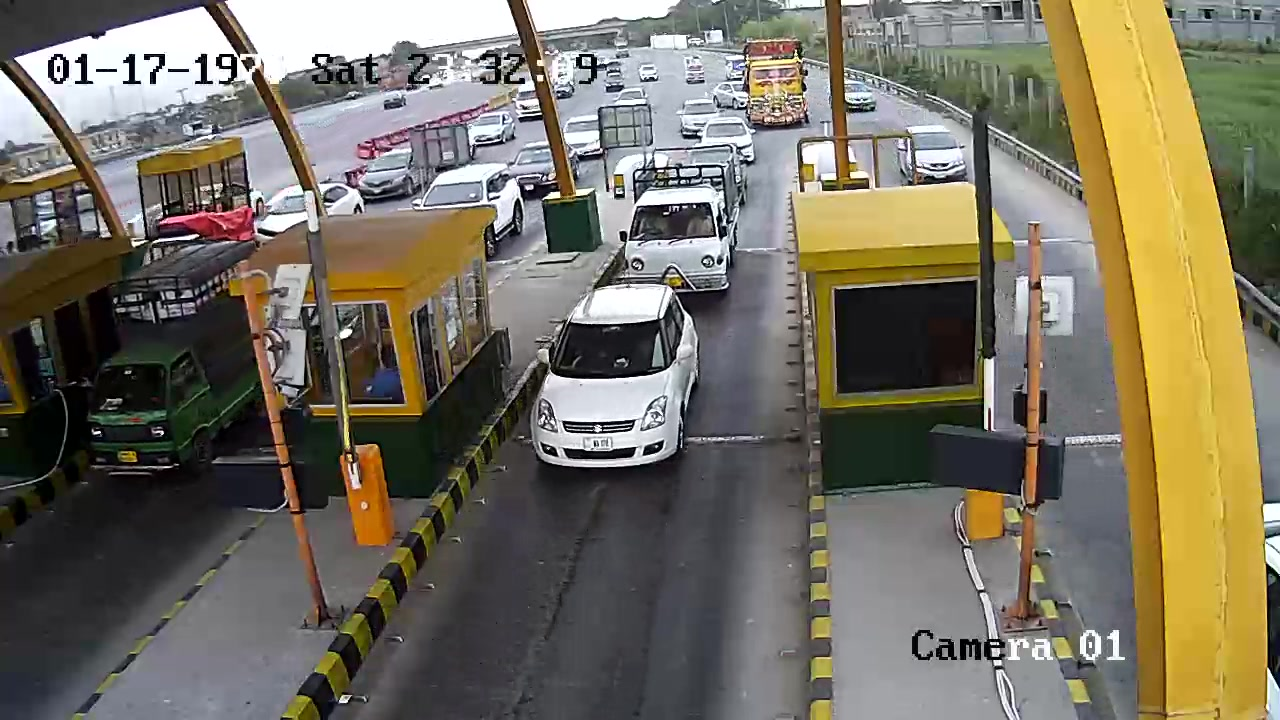F1: (515, 273, 712, 490)
